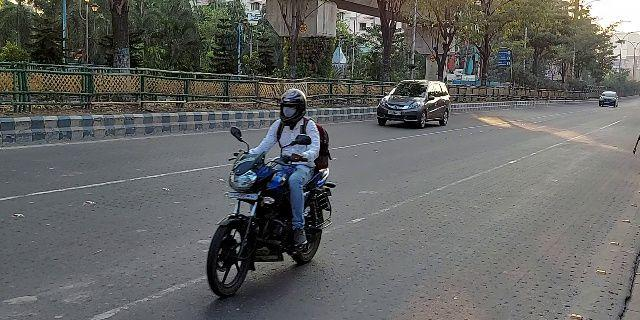Car: (373, 77, 452, 130)
Motorbike: (195, 85, 338, 297)
